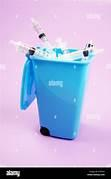Syringe: (10, 40, 55, 58), (31, 18, 51, 48), (58, 47, 102, 59)
